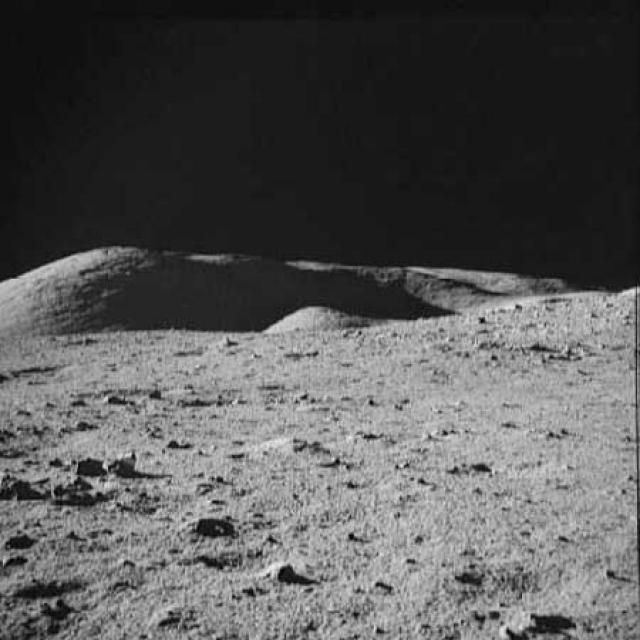rock: (482, 604, 577, 639), (234, 434, 312, 459), (180, 508, 234, 544), (53, 474, 103, 511), (0, 468, 45, 505), (260, 556, 298, 589), (109, 448, 138, 477), (73, 445, 102, 473)
